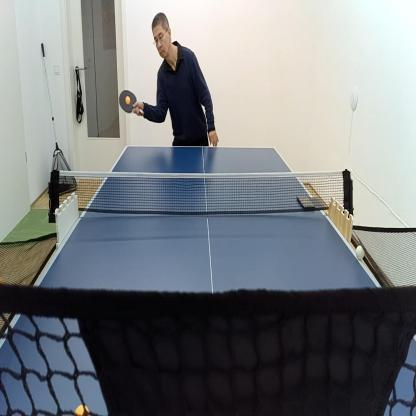Ball: (74, 400, 90, 416), (355, 242, 366, 262), (124, 93, 132, 108)
